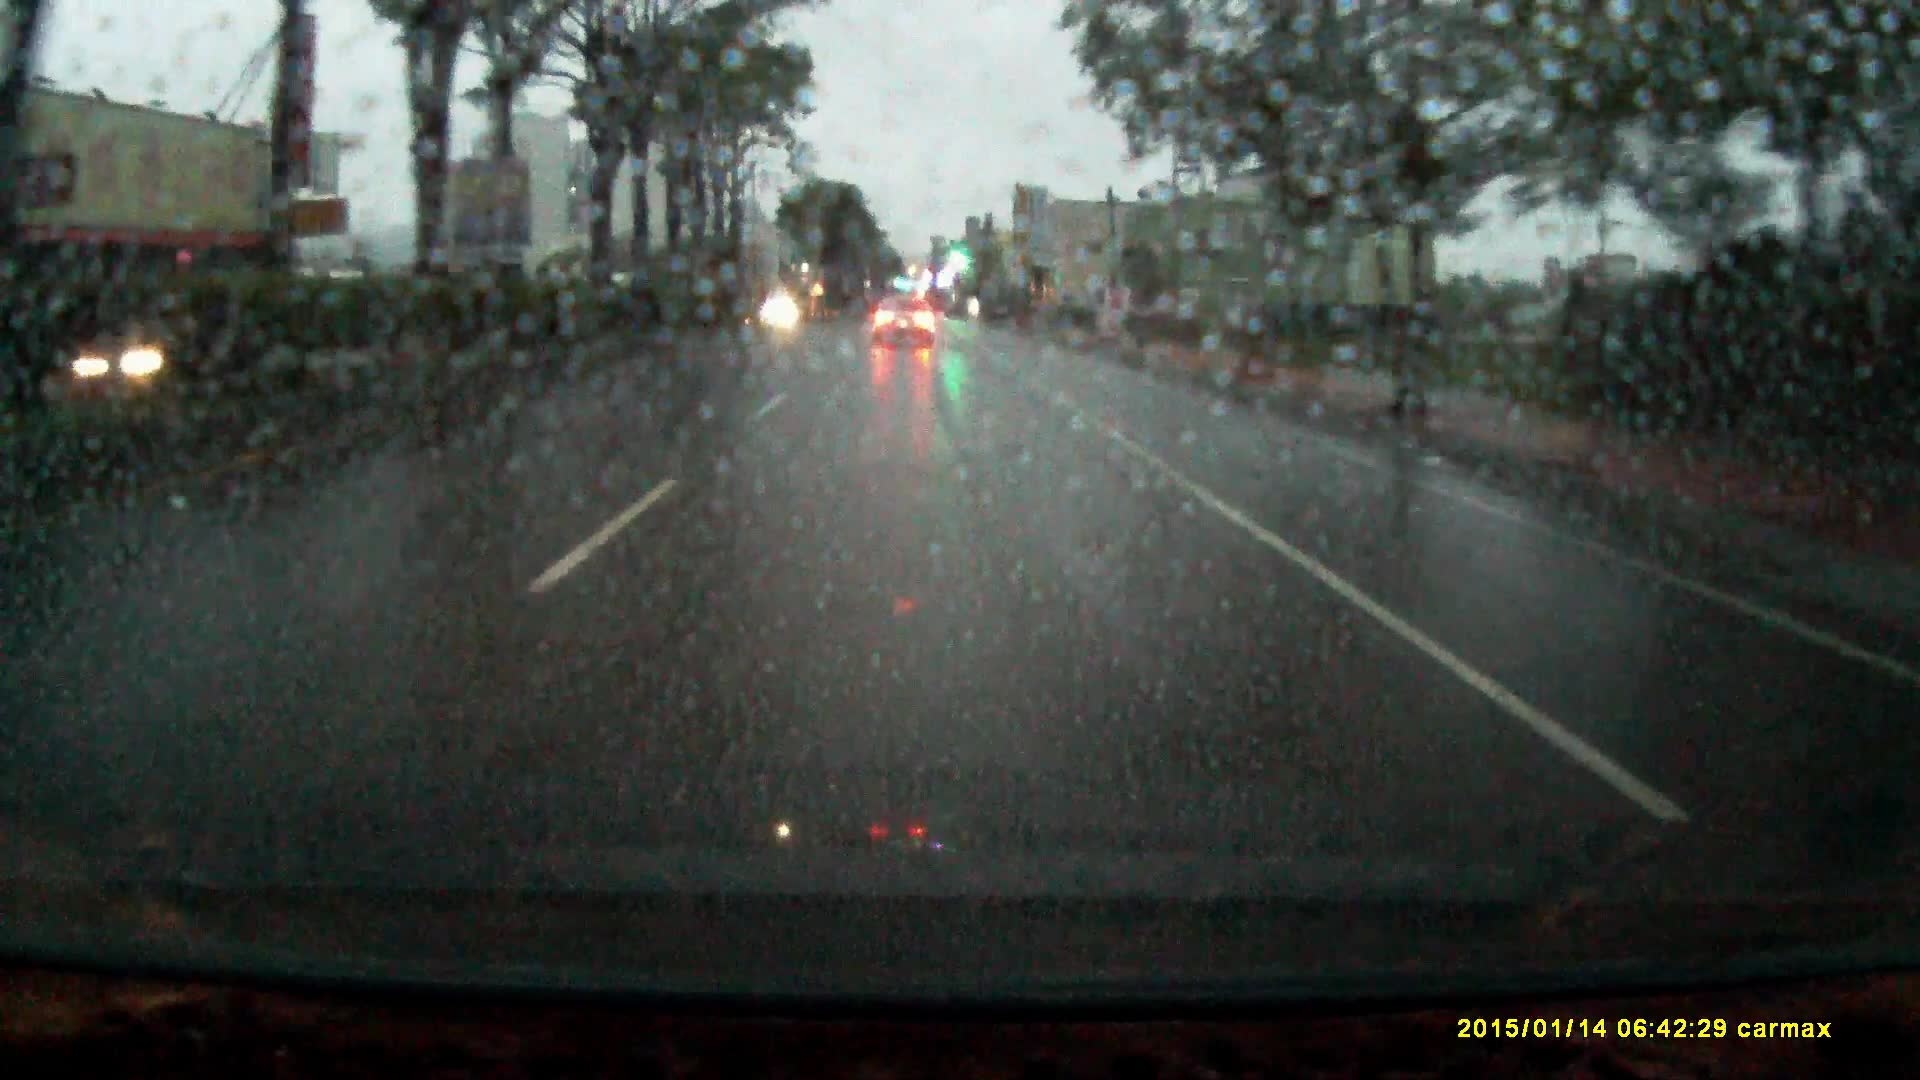vehicle: (876, 298, 936, 343)
